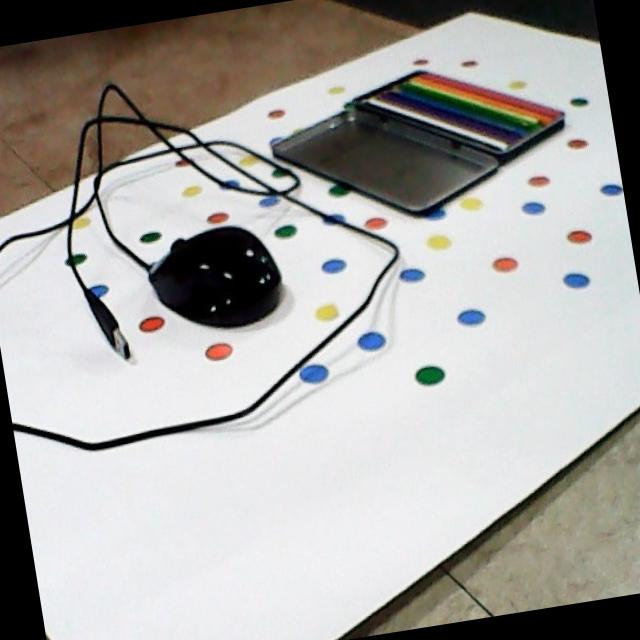color: (335, 60, 575, 170)
mouse: (142, 216, 287, 336)
